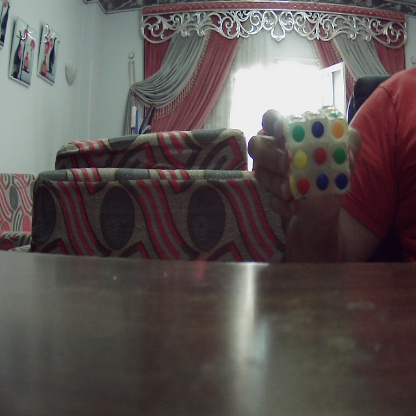Rubix Cube: (287, 116, 351, 197)
